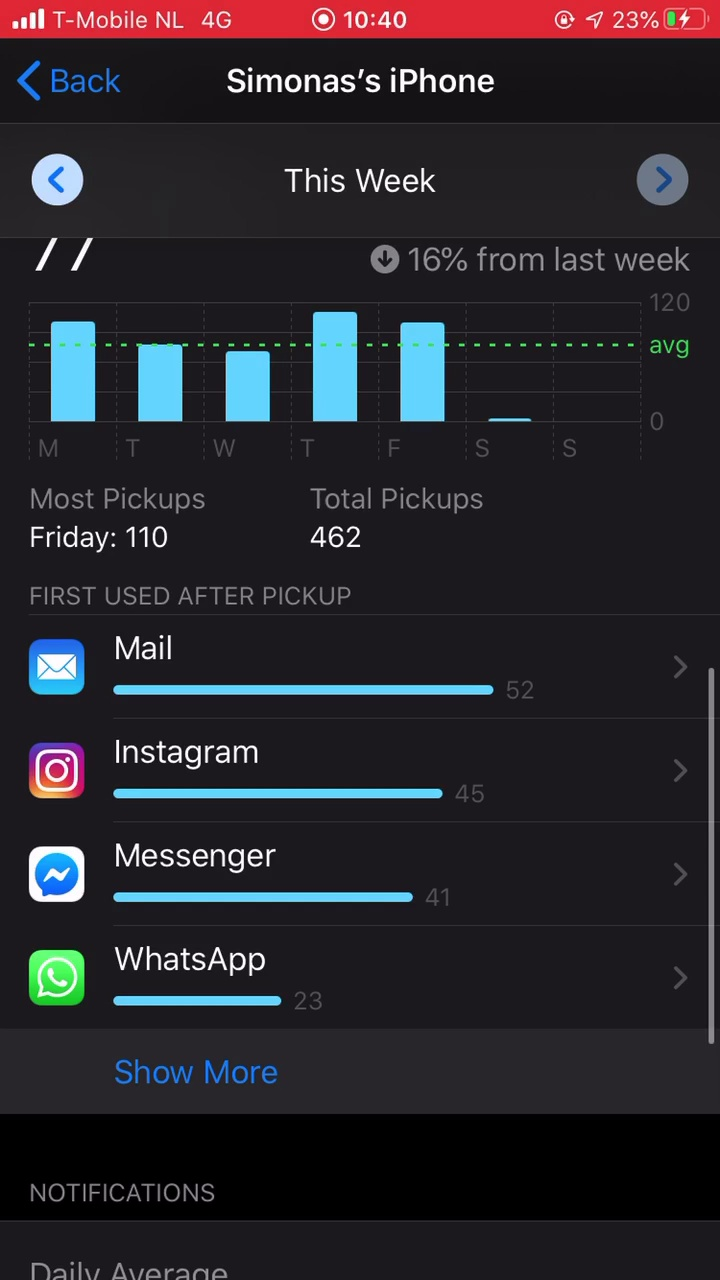pick_app: (12, 625, 567, 710), (11, 724, 504, 819), (9, 839, 481, 930), (12, 941, 395, 1025)
pick_over: (1, 480, 514, 580)
week: (262, 163, 446, 201)
